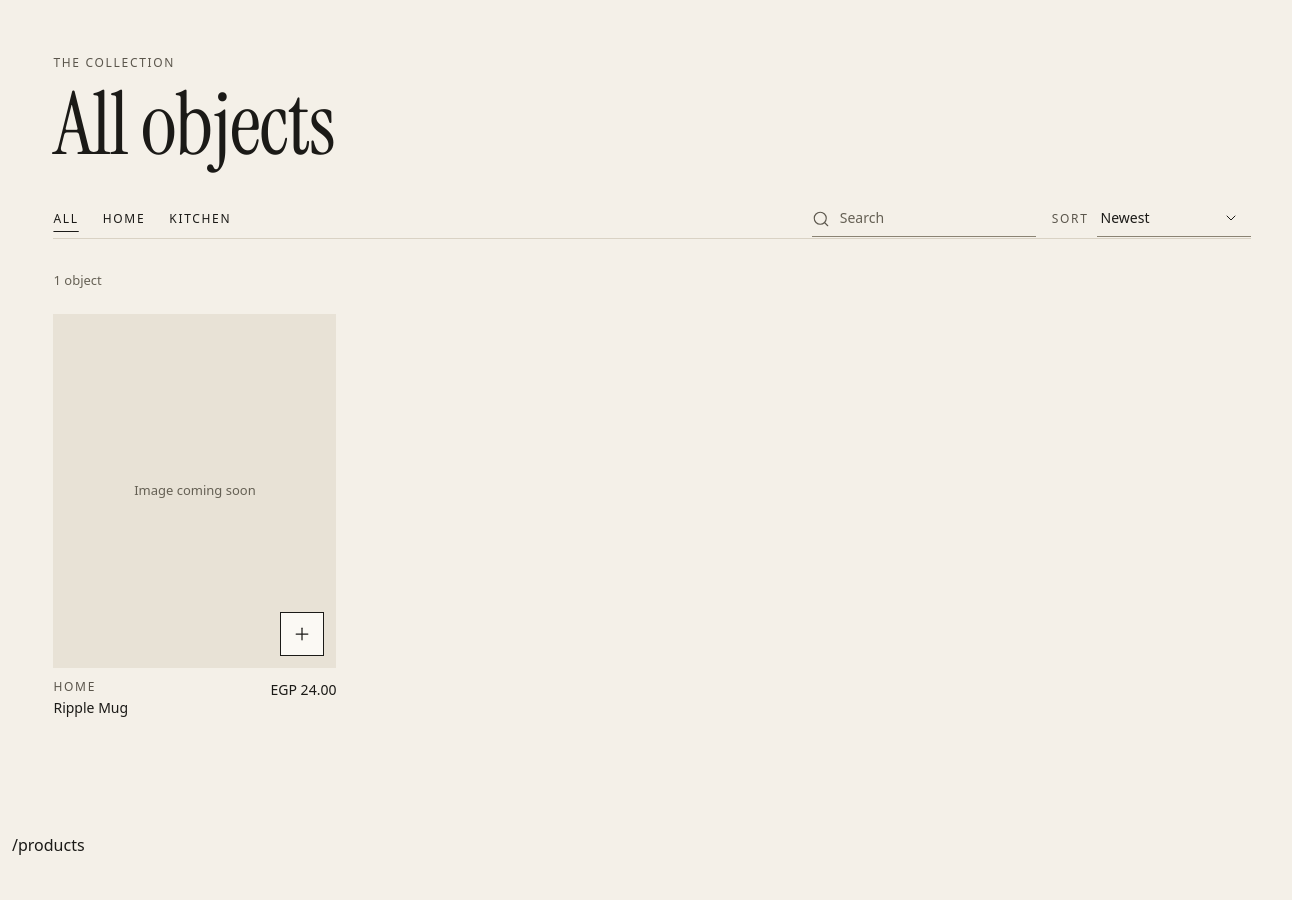
Test: ProductsPage › keeps the previous results on screen, marked busy, while a changed filter loads: no skeleton flash
This screenshot has width=1292, height=900.
Later steps or results of the test are not shown.
Expected: the link "Ripple Mug" is shown, [53,698,128,718]
Step 1. Select "Name A to Z" in the dropdown labelled "Sort" → {"x": 1174, "y": 219}, box [1097,200,1251,237]
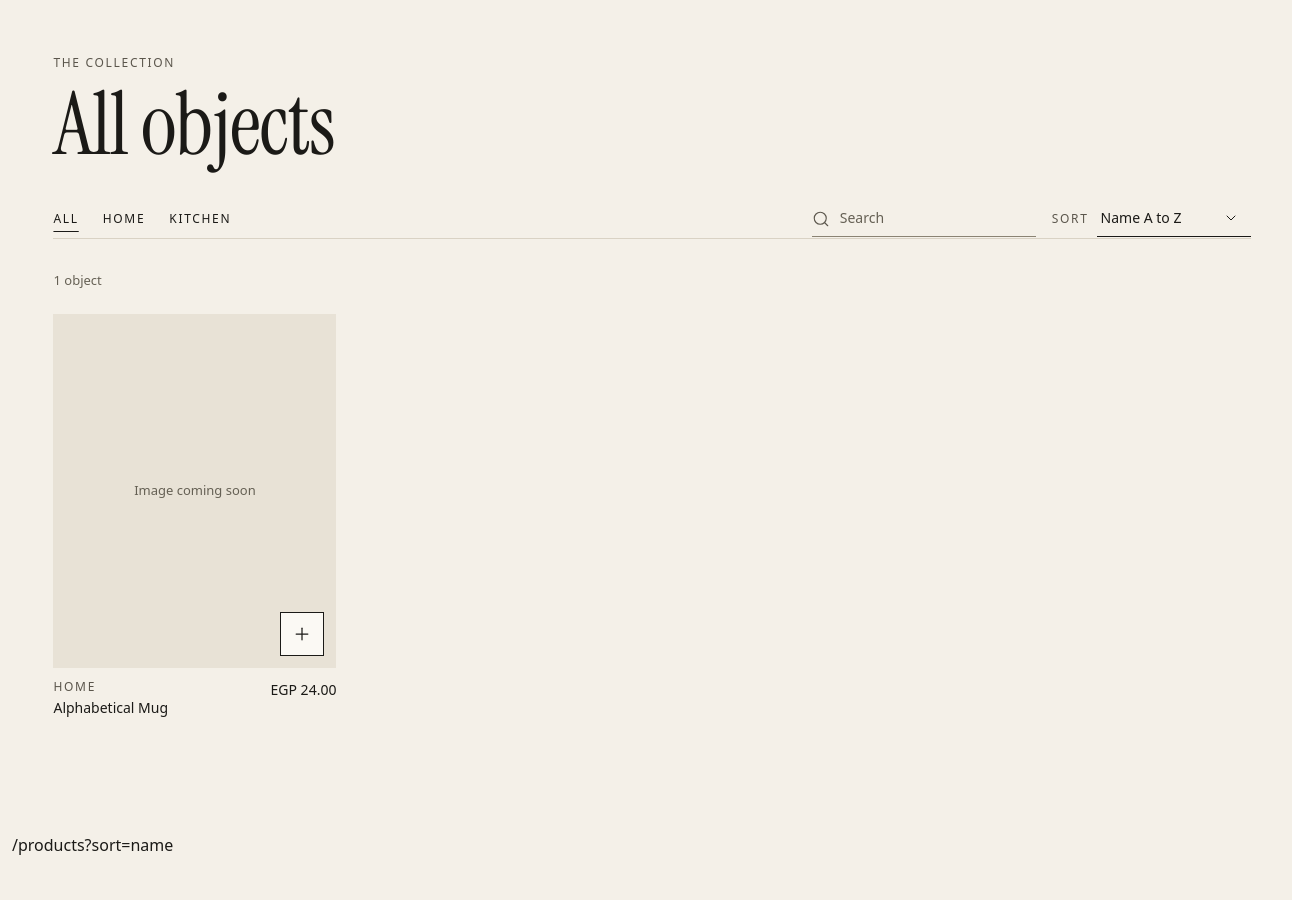
Expected: the link "Alphabetical Mug" is shown, [53,698,168,718]
